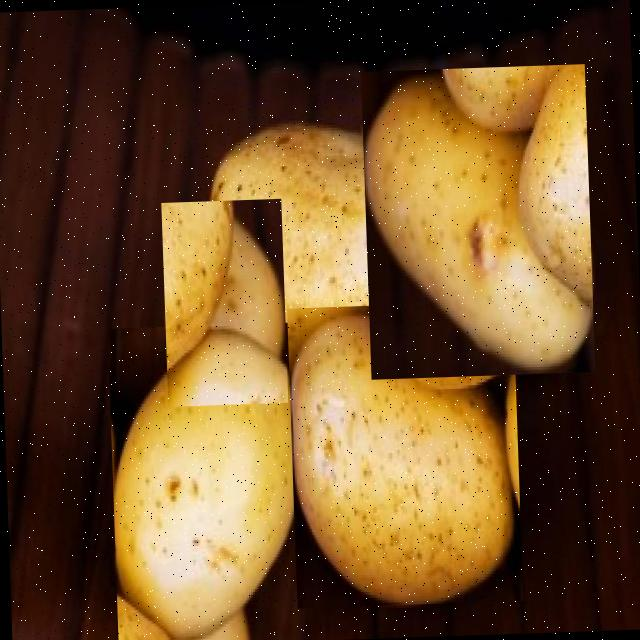Potato: (358, 62, 594, 378), (286, 299, 522, 607), (203, 110, 440, 398), (105, 321, 307, 640), (160, 198, 287, 406)
